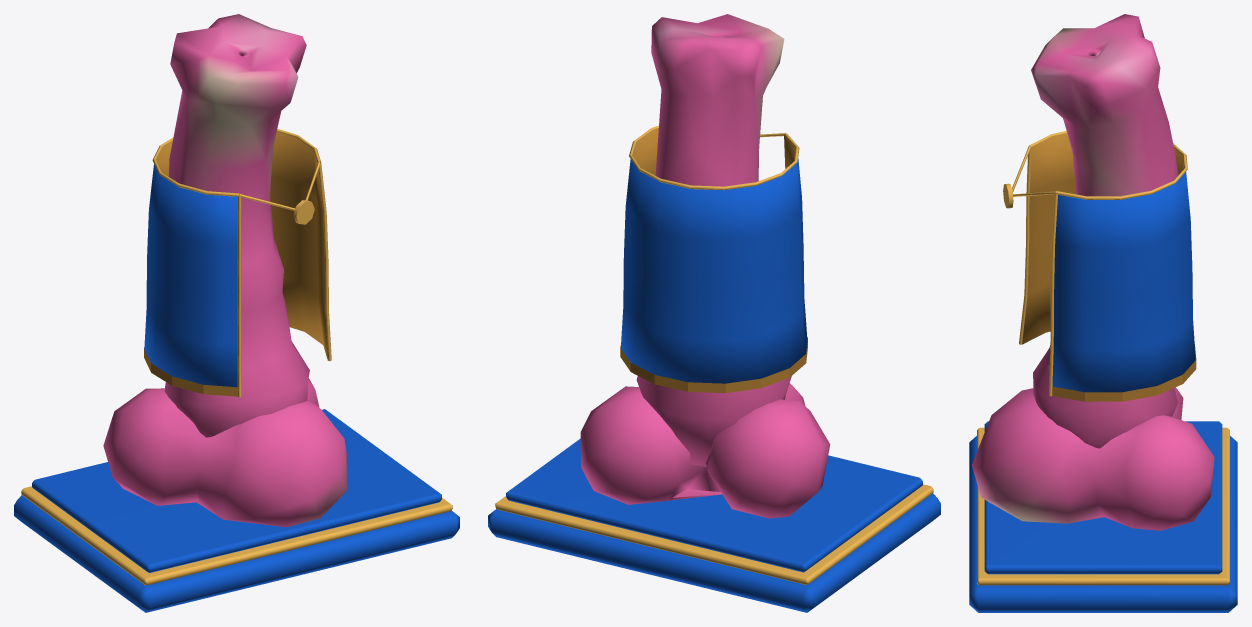
The model's file is chess.set.royal-capes.lod1.glb.
3 views of the same model, side by side, from view 1: azimuth 30°, elevation 25°; view 2: azimuth 150°, elevation 25°; view 3: azimuth 270°, elevation 25° (orthographic).
Visible parts, largest first — view 1: knight, distance_cloth, stand_top, stand_base, stand_gold_band, distance_gold_binding.001, distance_lined_hem, distance_gold_binding.002, distance_gold_binding; view 2: knight, distance_cloth, stand_top, stand_base, stand_gold_band, distance_lined_hem, distance_gold_binding; view 3: knight, distance_cloth, stand_top, stand_base, stand_gold_band, distance_lined_hem, distance_gold_binding.002, distance_gold_binding, distance_gold_binding.001.
Part boxes in pixels (x1=…): knight: x1=103, y1=14, x2=347, y2=527; distance_cloth: x1=144, y1=131, x2=328, y2=387; stand_top: x1=32, y1=409, x2=441, y2=572; stand_base: x1=14, y1=495, x2=459, y2=612; stand_gold_band: x1=21, y1=486, x2=452, y2=585; distance_gold_binding.001: x1=237, y1=196, x2=241, y2=397; distance_lined_hem: x1=144, y1=347, x2=238, y2=396; distance_gold_binding.002: x1=318, y1=162, x2=331, y2=361; distance_gold_binding: x1=152, y1=128, x2=320, y2=196; knight: x1=580, y1=14, x2=830, y2=518; distance_cloth: x1=620, y1=128, x2=807, y2=383; stand_top: x1=506, y1=438, x2=922, y2=572; stand_base: x1=488, y1=493, x2=940, y2=612; stand_gold_band: x1=495, y1=484, x2=933, y2=584; distance_lined_hem: x1=620, y1=337, x2=807, y2=393; distance_gold_binding: x1=629, y1=125, x2=799, y2=190; knight: x1=972, y1=14, x2=1214, y2=530; distance_cloth: x1=1022, y1=133, x2=1195, y2=392; stand_top: x1=984, y1=421, x2=1222, y2=574; stand_base: x1=969, y1=436, x2=1237, y2=612; stand_gold_band: x1=977, y1=427, x2=1229, y2=585; distance_lined_hem: x1=1052, y1=344, x2=1196, y2=401; distance_gold_binding.002: x1=1049, y1=192, x2=1057, y2=396; distance_gold_binding: x1=1029, y1=131, x2=1187, y2=199; distance_gold_binding.001: x1=1019, y1=146, x2=1031, y2=344.
Size of the model in its own units: 0.5111 by 0.75 by 0.3651.
